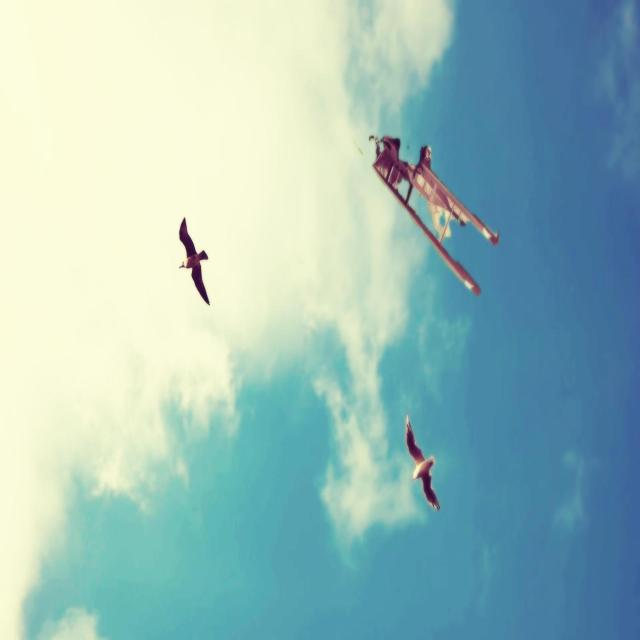airplane: (368, 133, 499, 297)
